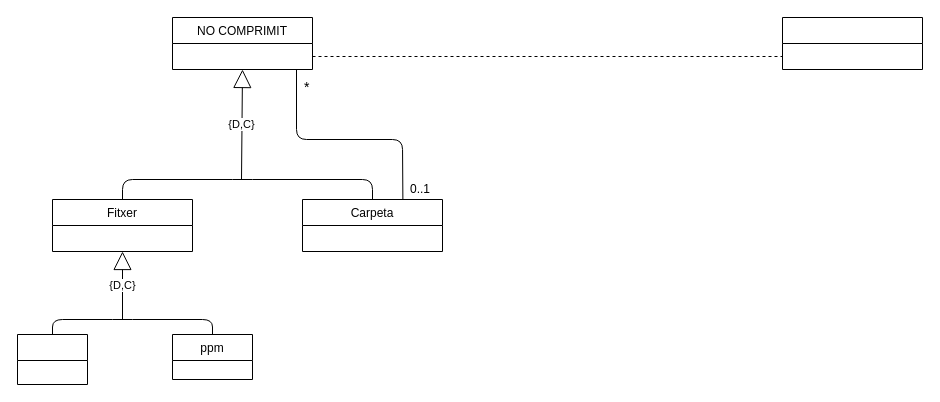
Some shapes in this 940 by 402 pixel diagram are drawn without their labels. The centre of each missing label's shape, as x and y in pixels:
"COMPRIMIT" goes at point 852,43.
"txt" goes at point 52,359.
